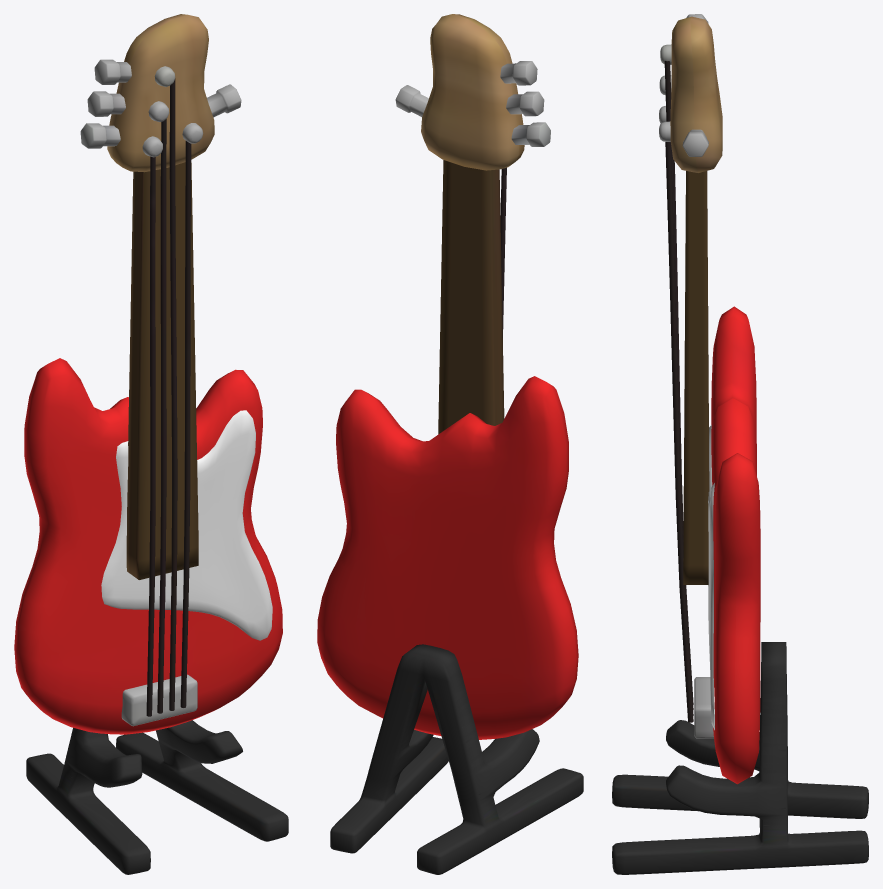
File: bass.v2.glb
The picture shows the model from 3 angles, left to right: view 1: azimuth 30°, elevation 25°; view 2: azimuth 150°, elevation 25°; view 3: azimuth 270°, elevation 25°; orthographic projection. The views are drawn at different scales.
Parts seen in each view (by area): view 1: Plane.014, bass_neck, Cube.035, bass_guard, bass_head, line3, line2, line4, line1, bass_peg, bass_bridge, bass_nut; view 2: Plane.014, Cube.035, bass_neck, bass_head, bass_peg, line1; view 3: Cube.035, Plane.014, bass_neck, bass_head, line4, bass_guard, line3, bass_bridge, line2, bass_nut, bass_peg.
Boxes of the visible parts, box(x1,y1,x2,y2) form: Plane.014: box(14, 358, 282, 734); bass_neck: box(126, 162, 198, 579); Cube.035: box(26, 720, 288, 874); bass_guard: box(101, 410, 272, 640); bass_head: box(107, 14, 214, 172); line3: box(169, 78, 177, 710); line2: box(157, 119, 166, 713); line4: box(180, 141, 191, 707); line1: box(146, 156, 155, 716); bass_peg: box(80, 59, 241, 148); bass_bridge: box(121, 674, 197, 726); bass_nut: box(142, 66, 203, 157); Plane.014: box(317, 376, 578, 739); Cube.035: box(330, 644, 583, 874); bass_neck: box(438, 160, 504, 434); bass_head: box(421, 14, 524, 170); bass_peg: box(395, 61, 550, 146); line1: box(500, 167, 506, 337); Cube.035: box(612, 642, 868, 874); Plane.014: box(711, 306, 760, 784); bass_neck: box(683, 171, 709, 584); bass_head: box(670, 16, 722, 172); line4: box(665, 142, 693, 722); bass_guard: box(708, 425, 714, 730); line3: box(664, 61, 693, 715); bass_bridge: box(694, 677, 713, 738); line2: box(671, 92, 693, 709); bass_nut: box(659, 44, 671, 141); bass_peg: box(682, 14, 708, 156).
Bounding box in the file's own units: 1.47 × 4.31 × 1.22.
Materials: 3 (2 with a texture image).
